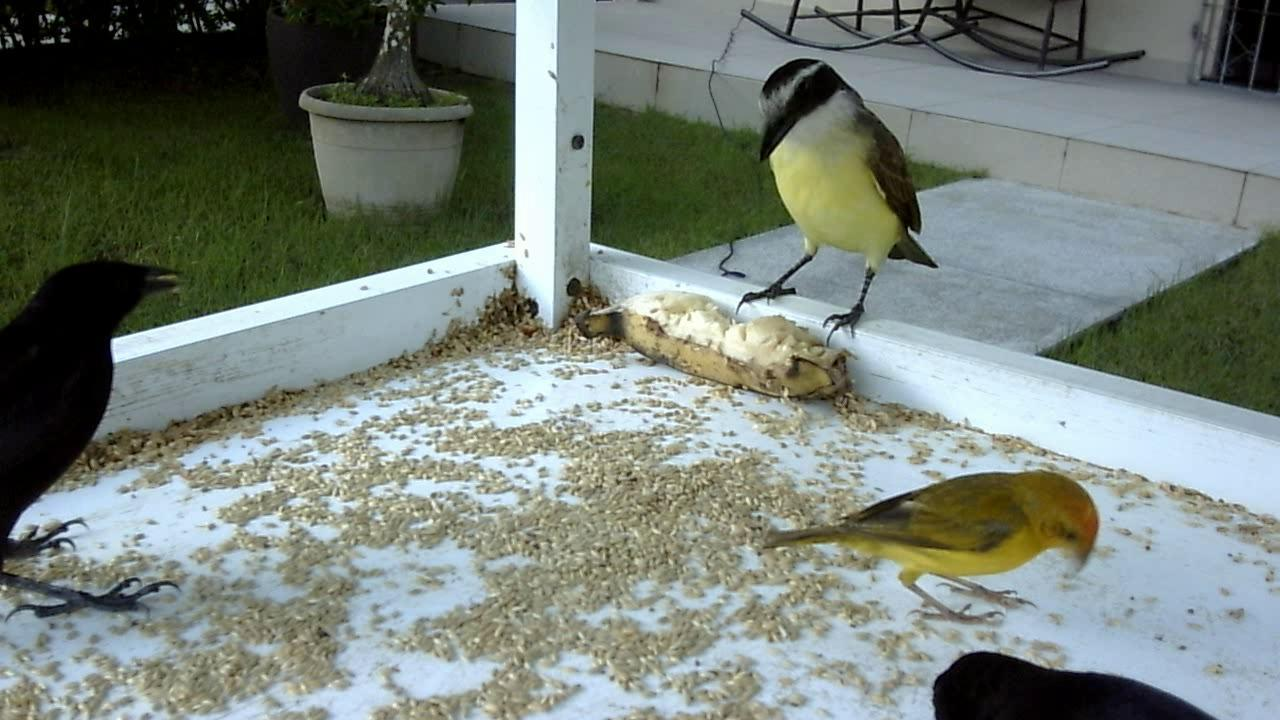bem_te_vi: (706, 47, 953, 362)
canario_do_amazonas: (750, 460, 1101, 628)
chupim: (1, 248, 197, 645), (928, 642, 1221, 720)
